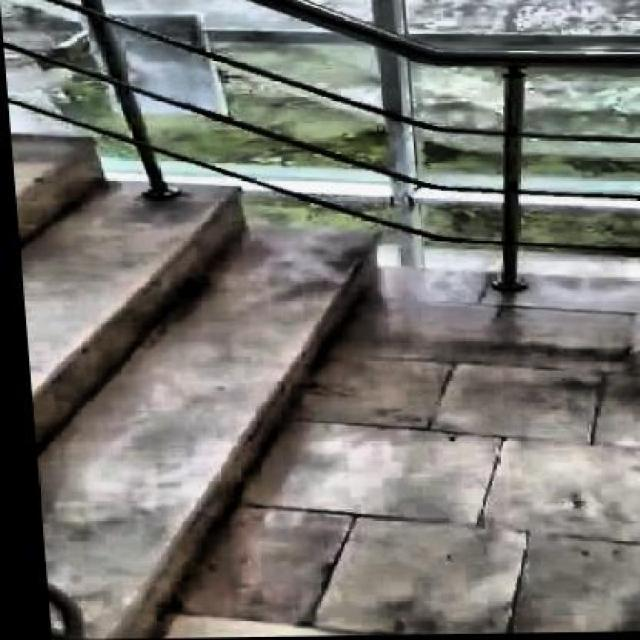stair: (11, 154, 436, 638)
